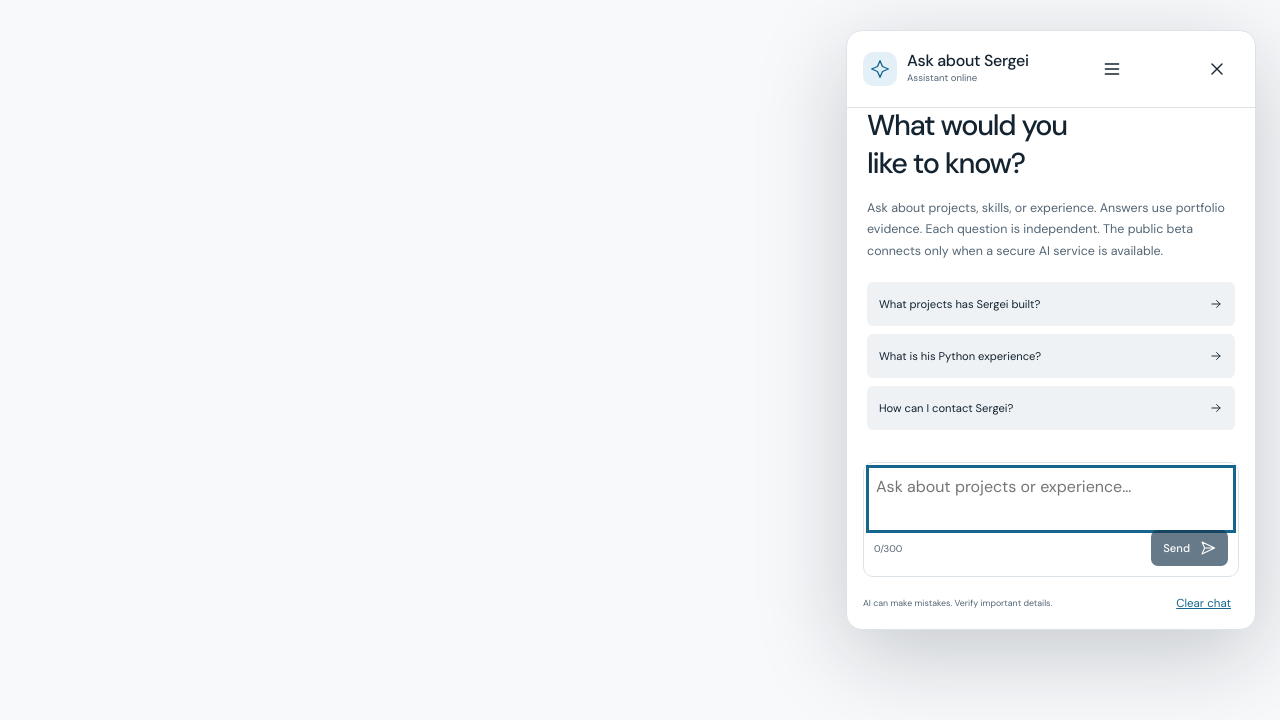
Test case: original React chat behavior › keeps the draft and retries a failed request without duplicating the user bubble
(page scrolled)
Type "Explain RAG" into the text box named "Your question" at (1051, 499), box [874, 473, 1228, 525]
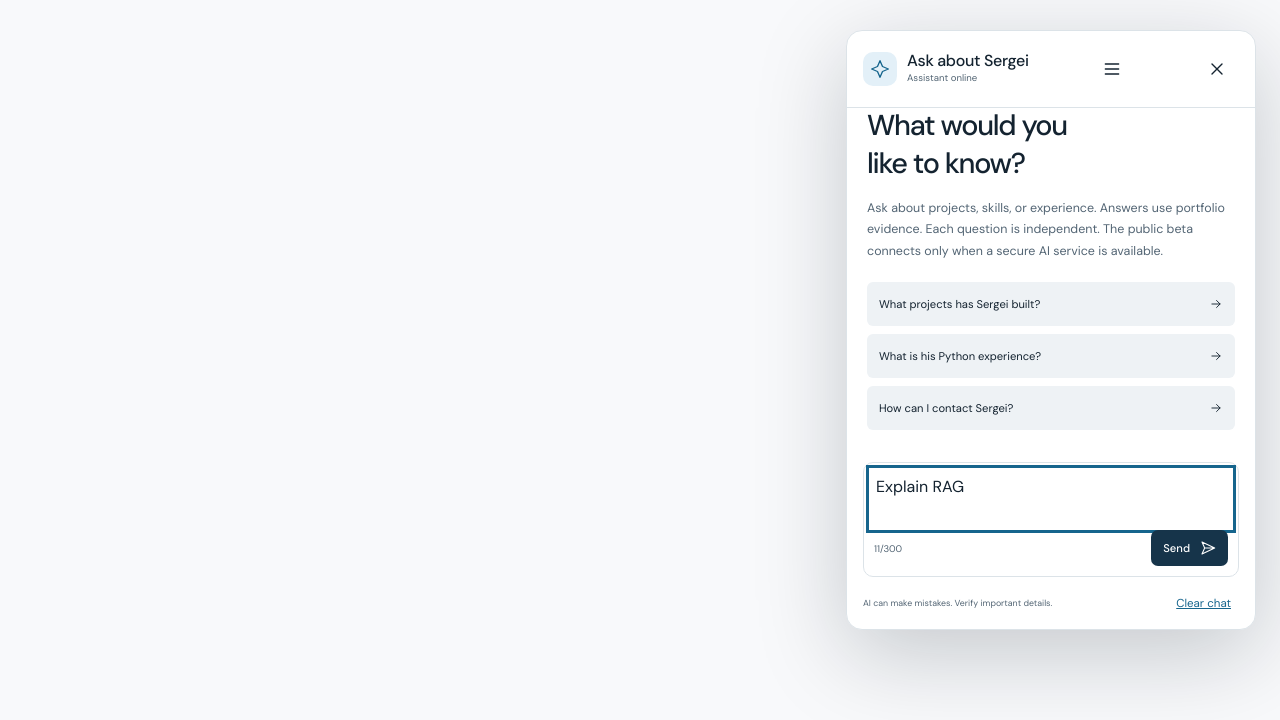
Click the button "Send" at (1190, 548), box [1151, 530, 1228, 566]
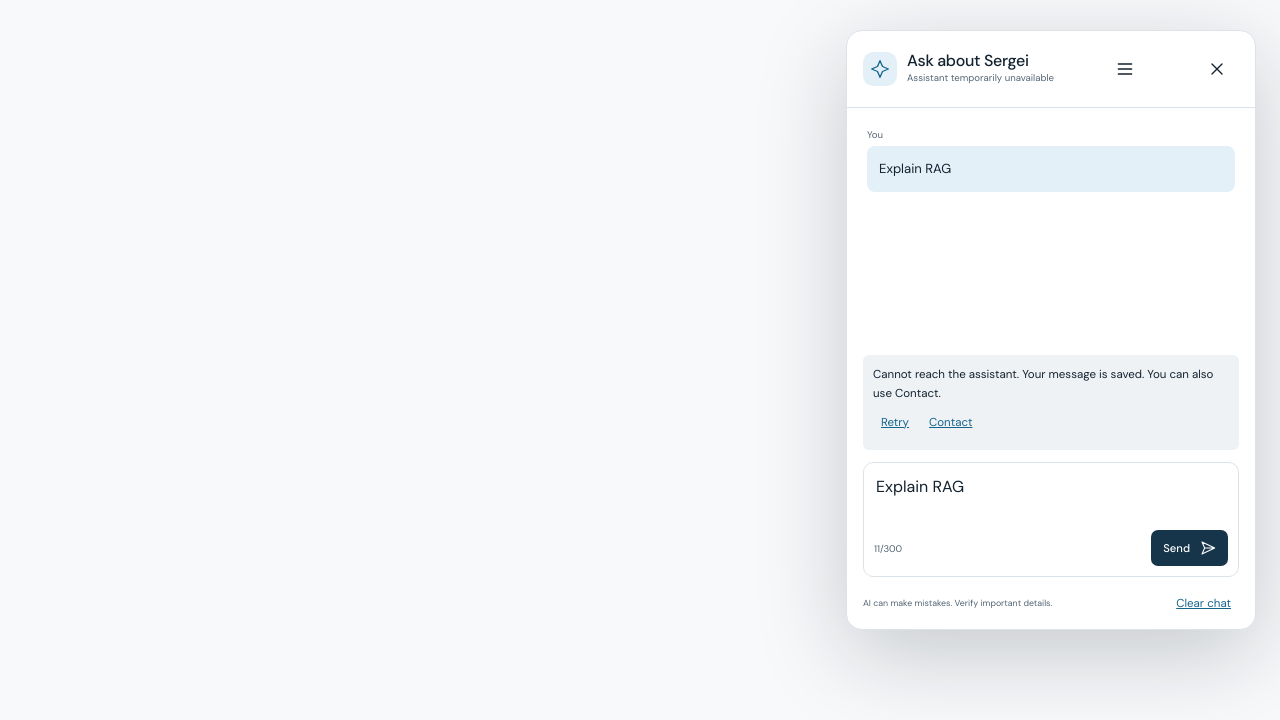
Expected: the message shows "Cannot reach the assistant", [873, 367, 1214, 402]
Click the button "Retry" at (895, 422), box [873, 404, 917, 440]
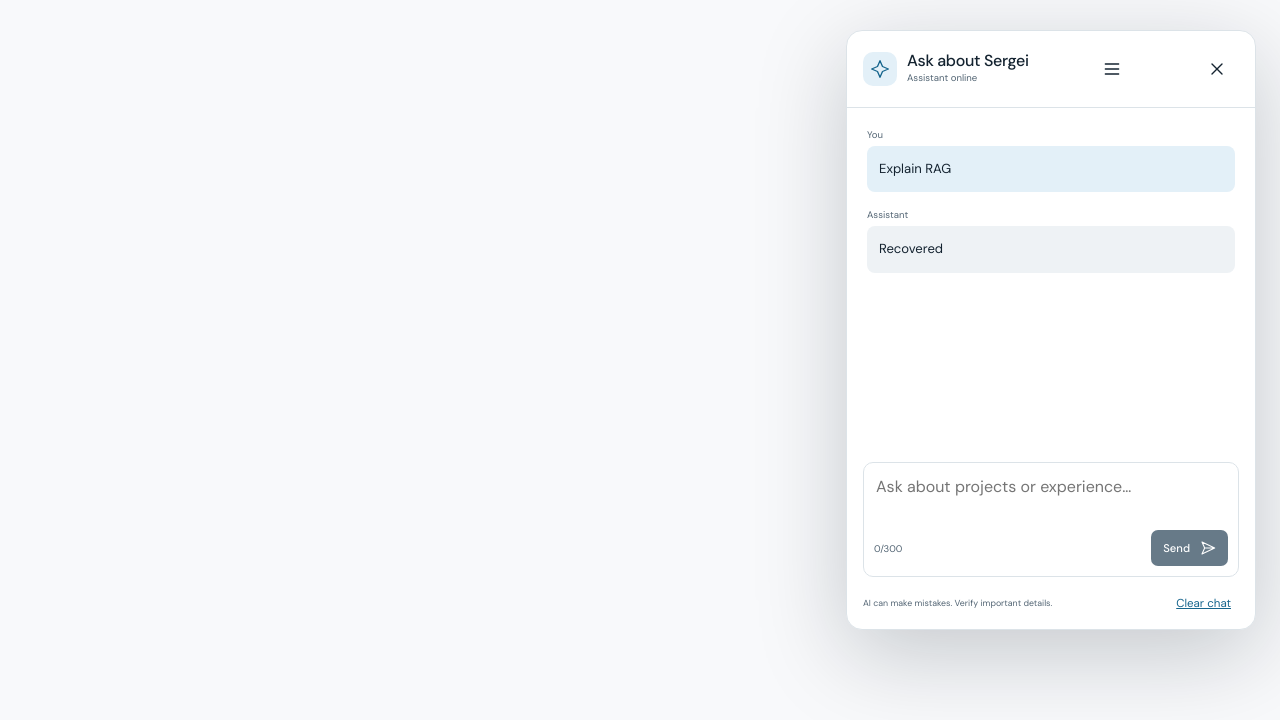
Expected: the text "Recovered" is shown, [867, 226, 1235, 273]
Expected: the number of elements with class "user" is 1, [867, 128, 1235, 192]
